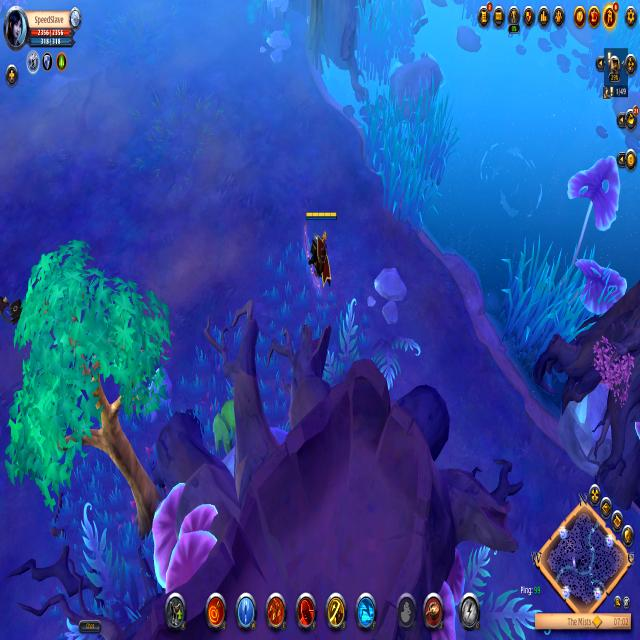red: (300, 205, 340, 296)
tree: (210, 392, 247, 457)
wisp caged: (0, 238, 171, 538)
